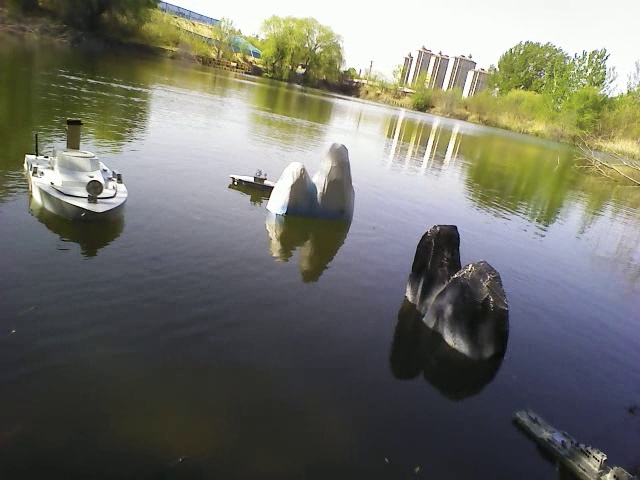aircraft_carrier: (229, 169, 276, 193)
boat: (19, 144, 133, 224)
iceberg: (269, 138, 365, 227)
rock: (403, 222, 516, 363)
warship: (514, 406, 634, 478)
